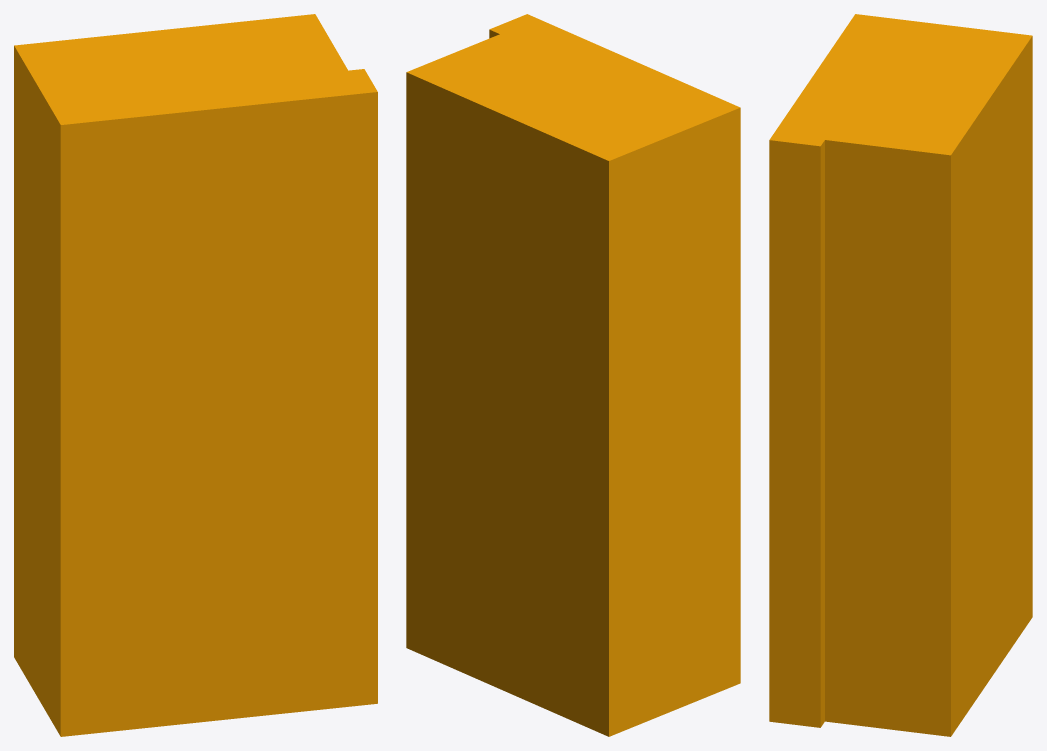
File: DEHB01ALn0001UGI.gltf
3 views of the same model, side by side, from view 1: azimuth 30°, elevation 25°; view 2: azimuth 150°, elevation 25°; view 3: azimuth 270°, elevation 25° (orthographic). The views are drawn at different scales.
Parts seen in each view (by area): view 1: Z_UP; view 2: Z_UP; view 3: Z_UP.
Part boxes in pixels (x1,y1,x2,y2): Z_UP: [14, 14, 377, 736]; Z_UP: [406, 14, 740, 736]; Z_UP: [769, 14, 1032, 736].
Bounding box in the file's own units: 3.82 × 7.33 × 3.01.
